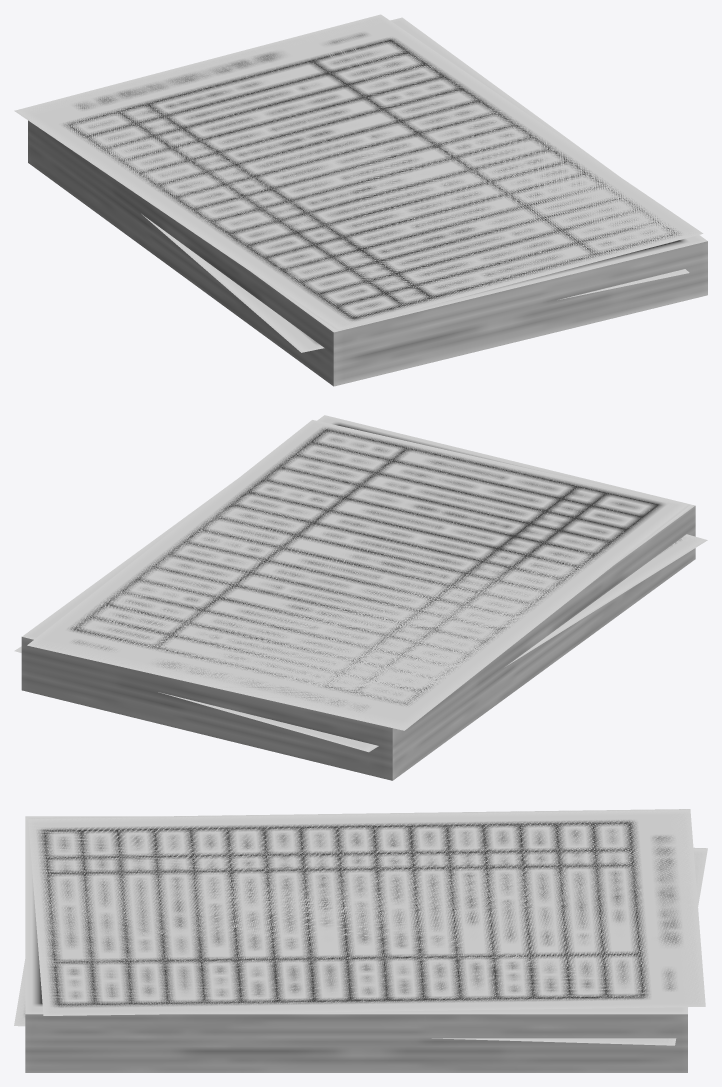
File: set_documents_02.fbx
3 renders of one model, top to bottom at view 1: azimuth 30°, elevation 25°; view 2: azimuth 150°, elevation 25°; view 3: azimuth 270°, elevation 25°, orthographic. The views are drawn at different scales.
Parts seen in each view (by area): view 1: set_documents_02; view 2: set_documents_02; view 3: set_documents_02.
Boxes of the visible parts, x1=… form: set_documents_02: x1=14, y1=14, x2=707, y2=386; set_documents_02: x1=14, y1=415, x2=707, y2=780; set_documents_02: x1=14, y1=809, x2=707, y2=1072.
Size of the model in its own units: 23.04 by 2.92 by 31.1.
